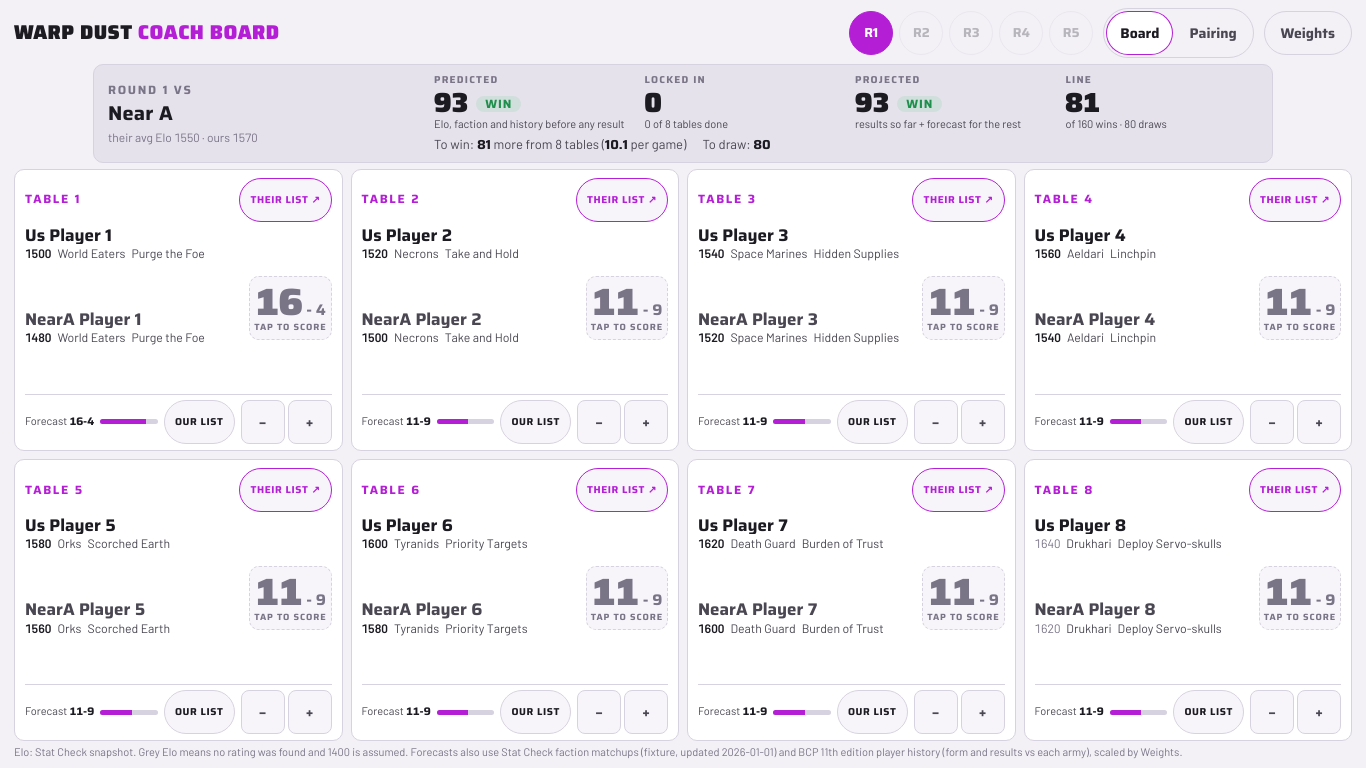
Test: board forecast weights › tapping plus on Form saves weights.form 0.75 and moves the board's forecasts
The width and height of the screenshot is (1366, 768).
Expected: the text "Forecasts also use Stat Check faction matchups (" shows "and BCP 11th edition player history (form and results vs each army), scaled by Weights.", left=14, top=745, right=1352, bottom=760
Click the button "Weights". click: x=1308, y=33
box: left=1264, top=11, right=1352, bottom=55
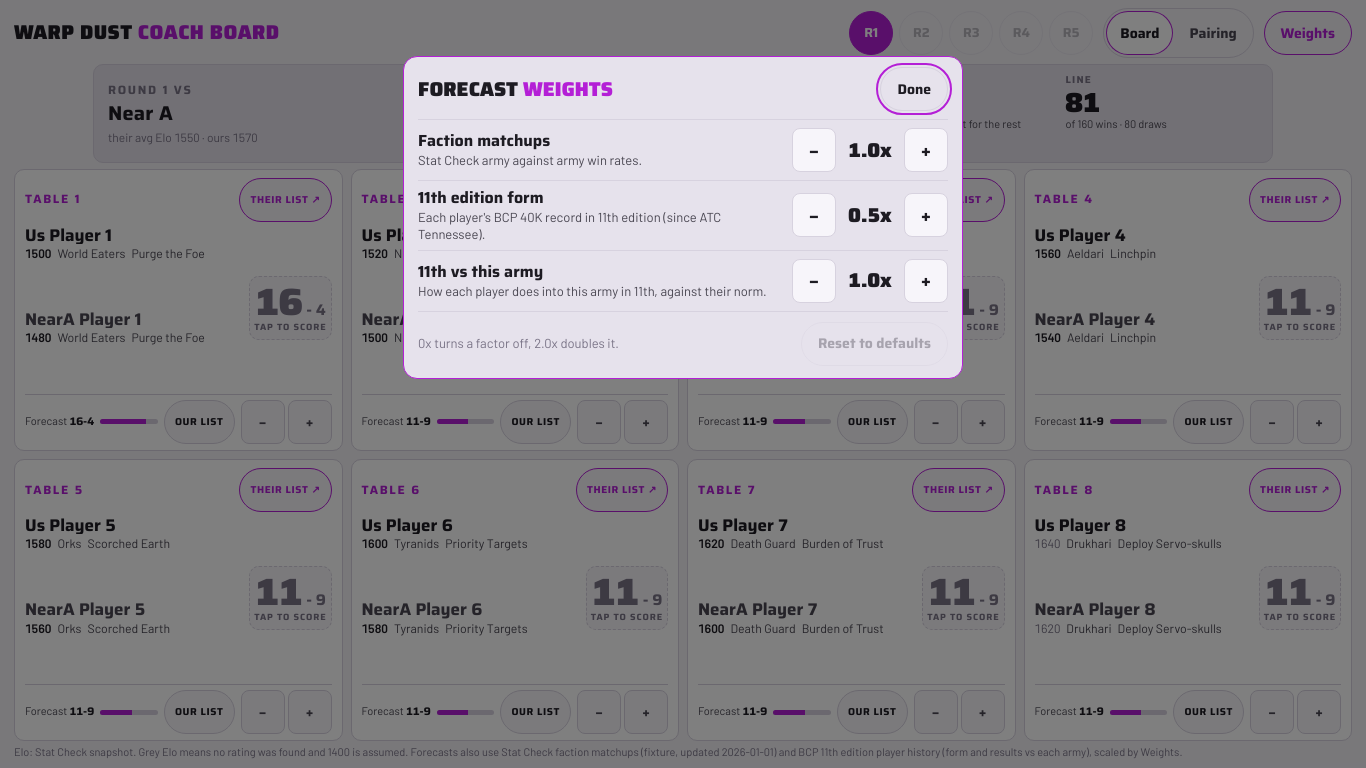
Click the button named "Raise 11th edition form weight". click: x=926, y=215
box: left=904, top=193, right=948, bottom=237
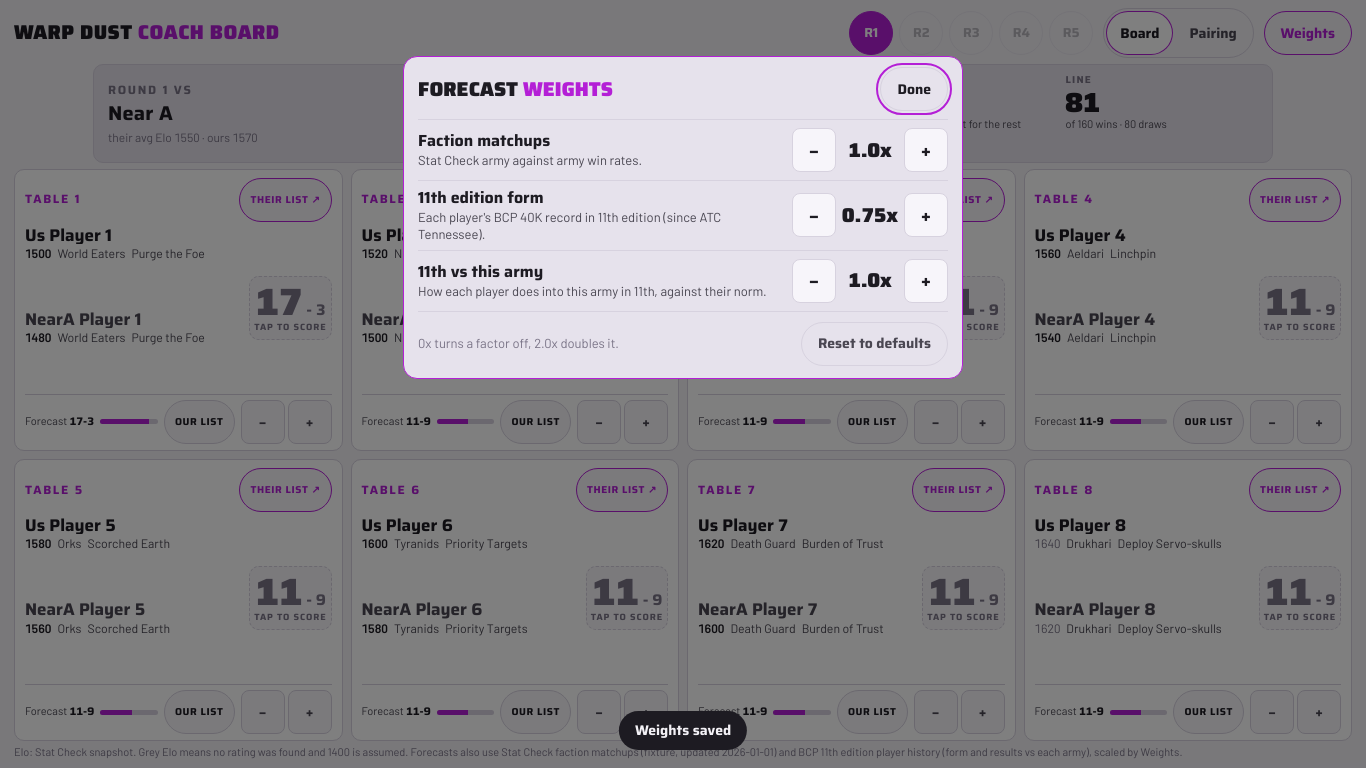
Now the element named "11th edition form weight" shows "0.75x", box left=842, top=199, right=898, bottom=231
Now the text "Forecast 17-3" is shown, box left=25, top=414, right=94, bottom=430
Now the text "Weights saved" is shown, box left=619, top=711, right=747, bottom=750
Click the button "Reset to defaults". click: x=874, y=344
box: left=801, top=322, right=948, bottom=366
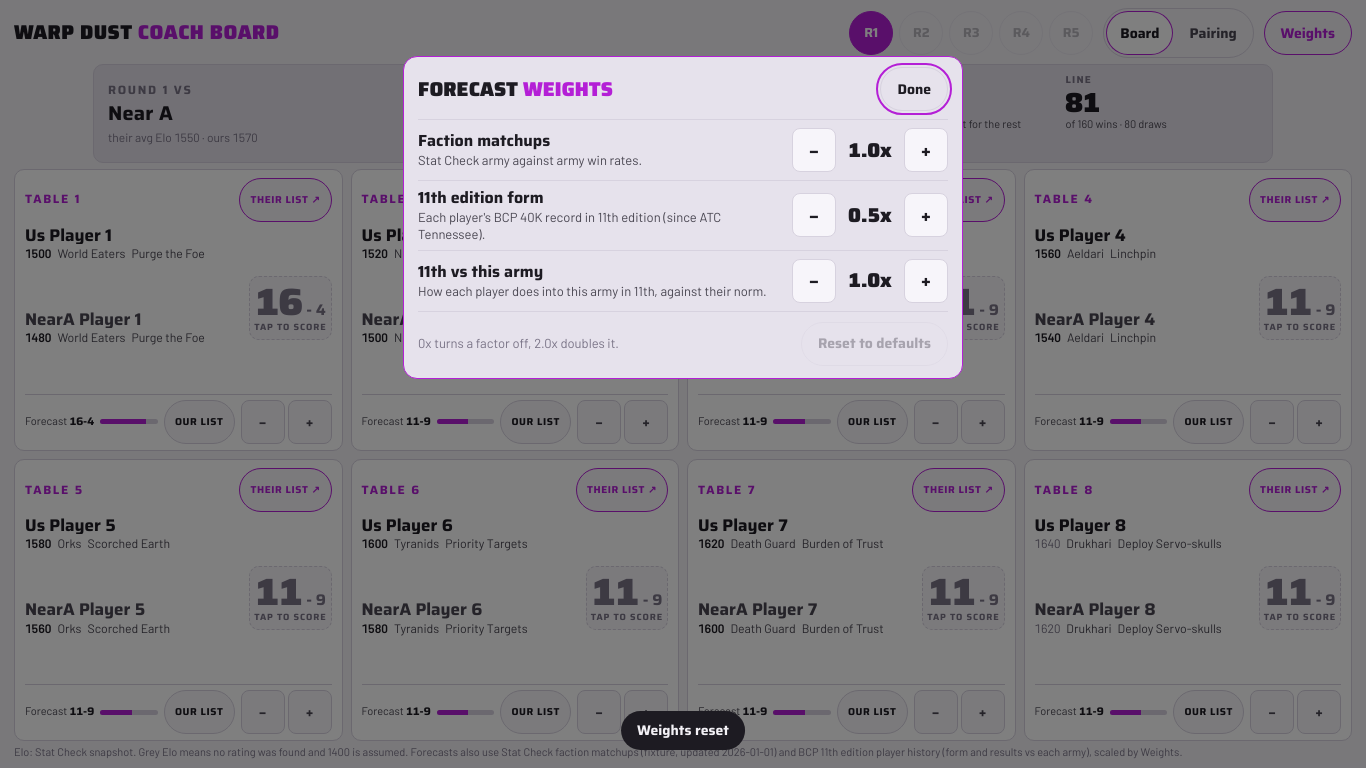
Now the element named "11th edition form weight" shows "0.5x", box left=848, top=199, right=892, bottom=231
